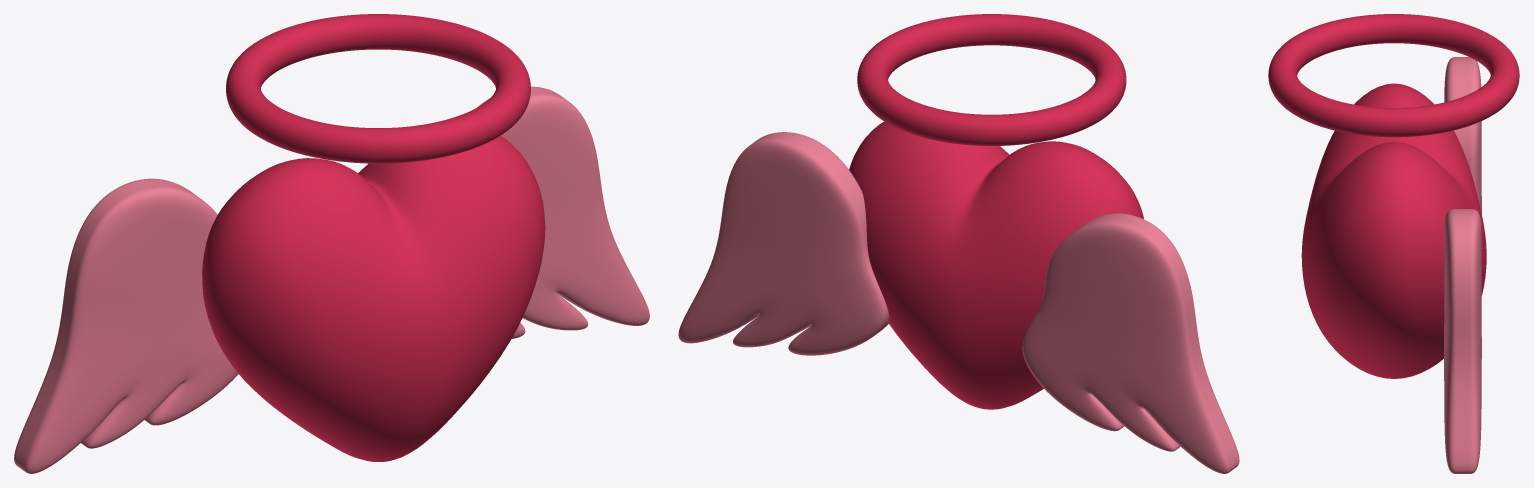
File: Love Wings.fbx
The picture shows the model from 3 angles, left to right: view 1: azimuth 30°, elevation 25°; view 2: azimuth 150°, elevation 25°; view 3: azimuth 270°, elevation 25°; orthographic projection. The views are drawn at different scales.
Parts seen in each view (by area): view 1: LoveShape_LOD0, Wings_LOD0, Circle_LOD0; view 2: Wings_LOD0, LoveShape_LOD0, Circle_LOD0; view 3: LoveShape_LOD0, Circle_LOD0, Wings_LOD0.
Boxes of the visible parts, x1,y1,x2,y2 form: LoveShape_LOD0: (202,136,545,461); Wings_LOD0: (14,86,649,473); Circle_LOD0: (226,14,530,163); Wings_LOD0: (678,132,1239,473); LoveShape_LOD0: (849,121,1143,409); Circle_LOD0: (857,14,1126,145); LoveShape_LOD0: (1301,83,1486,378); Circle_LOD0: (1268,14,1519,137); Wings_LOD0: (1444,57,1481,473).
Size of what is drawn, in the model's own units: 134 by 78.66 by 56.88.
